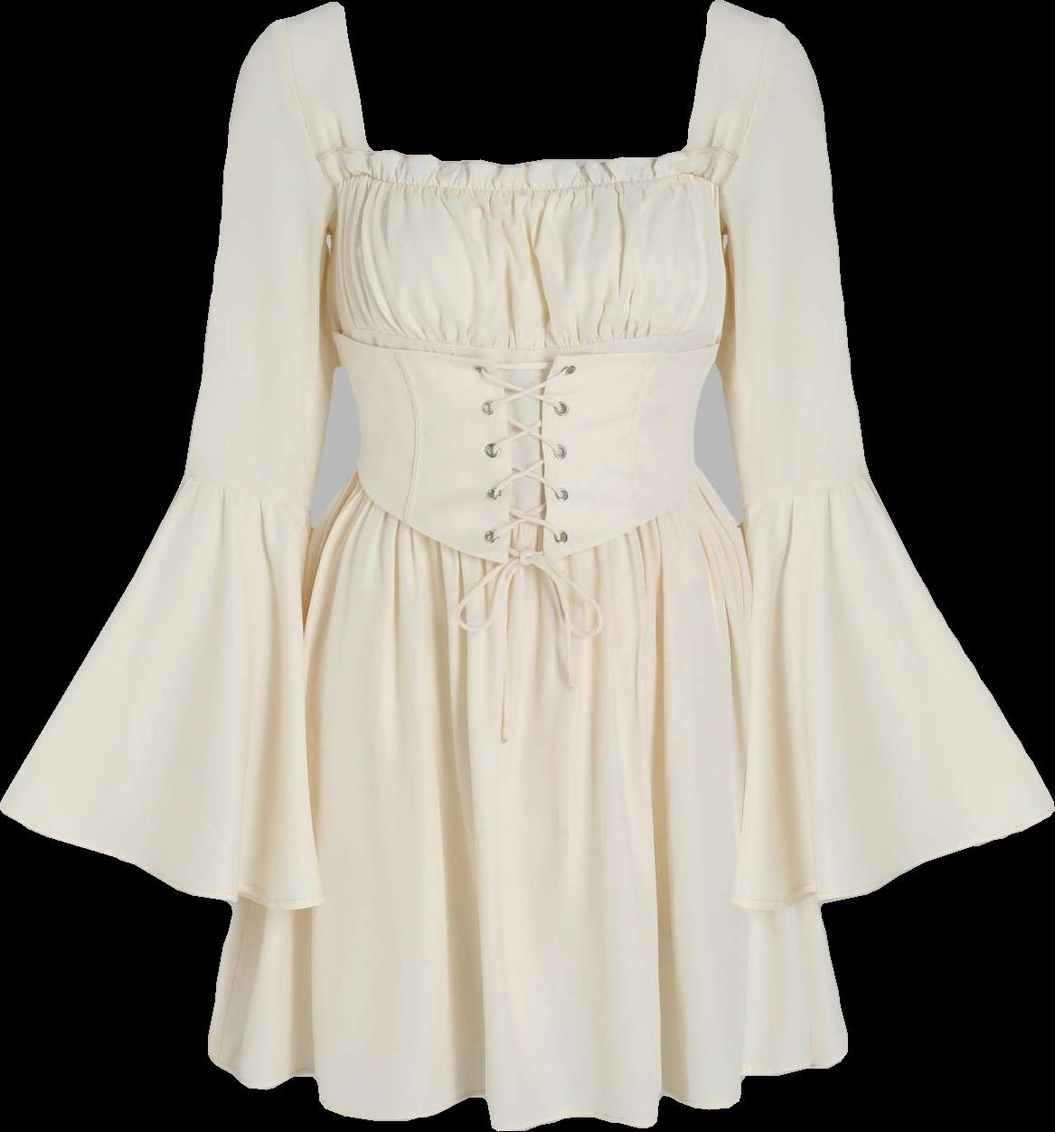Bodice: (287, 0, 763, 564)
Hemline: (202, 1046, 854, 1131)
Neckline: (332, 0, 722, 363)
Skirt: (209, 472, 847, 1129)
Sleeve: (0, 14, 336, 916), (719, 11, 1054, 910)
Sleeveline: (281, 17, 343, 214), (713, 12, 773, 193), (736, 465, 869, 519), (179, 467, 317, 517)
Waistline: (354, 470, 699, 571)
